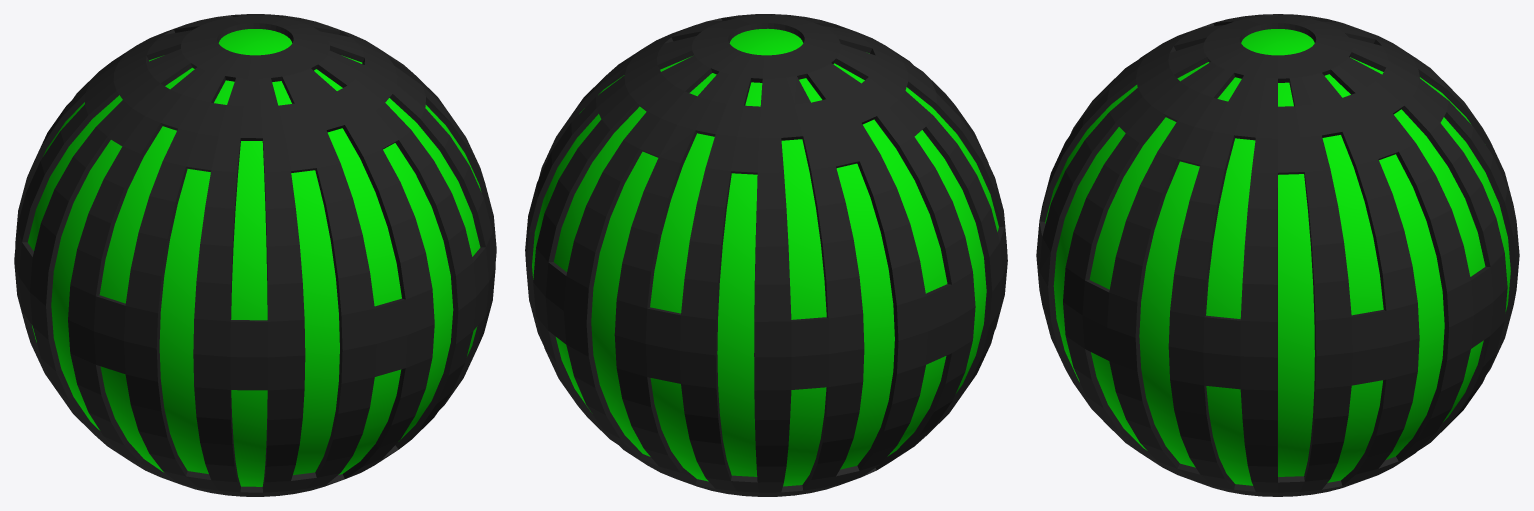
The model's file is ball_v2.fbx.
3 renders of one model, left to right at view 1: azimuth 30°, elevation 25°; view 2: azimuth 150°, elevation 25°; view 3: azimuth 270°, elevation 25°, orthographic.
Parts seen in each view (by area): view 1: pSphere2, pSphere1; view 2: pSphere2, pSphere1; view 3: pSphere2, pSphere1.
Boxes of the visible parts, box(x1,y1,x2,y2) form: pSphere2: box(14, 14, 496, 496); pSphere1: box(27, 29, 481, 486); pSphere2: box(525, 14, 1007, 496); pSphere1: box(532, 28, 998, 486); pSphere2: box(1036, 14, 1519, 496); pSphere1: box(1045, 29, 1510, 485).
Size of the model in its own units: 102 by 101 by 103.
